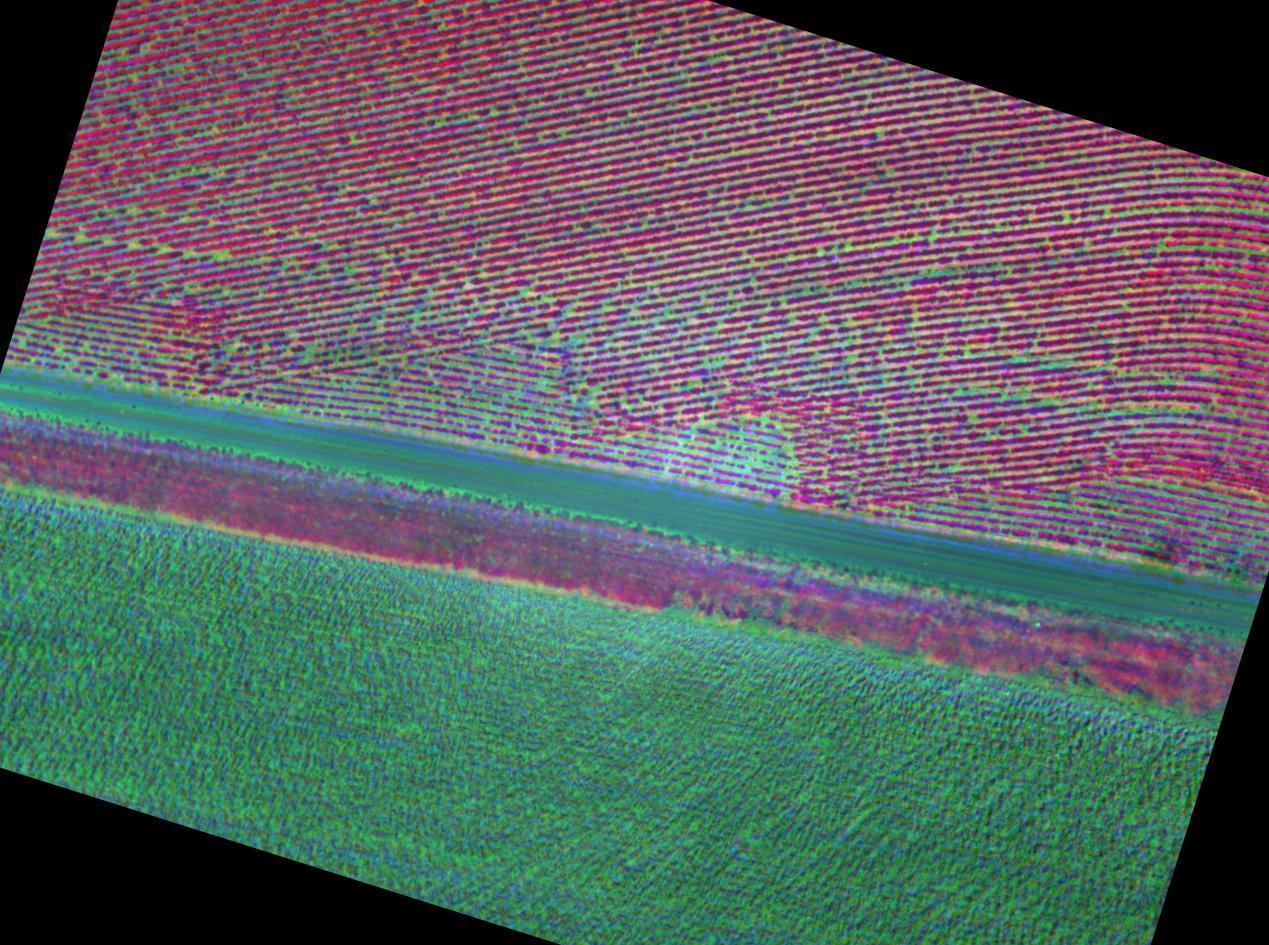dc: (347, 269, 352, 274), (79, 236, 83, 241), (552, 336, 556, 341), (568, 308, 572, 312), (690, 316, 693, 321), (847, 244, 850, 248), (743, 254, 746, 258), (265, 258, 268, 262), (720, 324, 723, 328), (206, 104, 209, 107)
